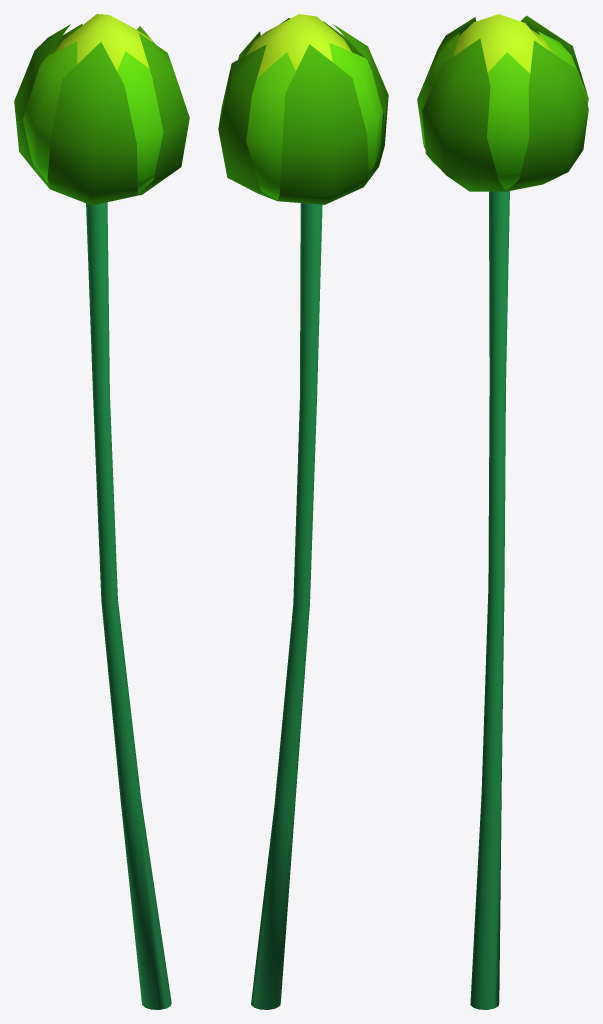
Rendered from AmericanLotus-Bud-1.fbx.
The picture shows the model from 3 angles, left to right: view 1: azimuth 30°, elevation 25°; view 2: azimuth 150°, elevation 25°; view 3: azimuth 270°, elevation 25°; orthographic projection. The views are drawn at different scales.
Parts seen in each view (by area): view 1: AmericanLotus-Bud-1; view 2: AmericanLotus-Bud-1; view 3: AmericanLotus-Bud-1.
Boxes of the visible parts, left/top/right/bottom form: AmericanLotus-Bud-1: left=14, top=14, right=189, bottom=1009; AmericanLotus-Bud-1: left=218, top=14, right=388, bottom=1009; AmericanLotus-Bud-1: left=417, top=14, right=588, bottom=1009.
Bounding box in the file's own units: 17.41 × 118 × 18.85.
